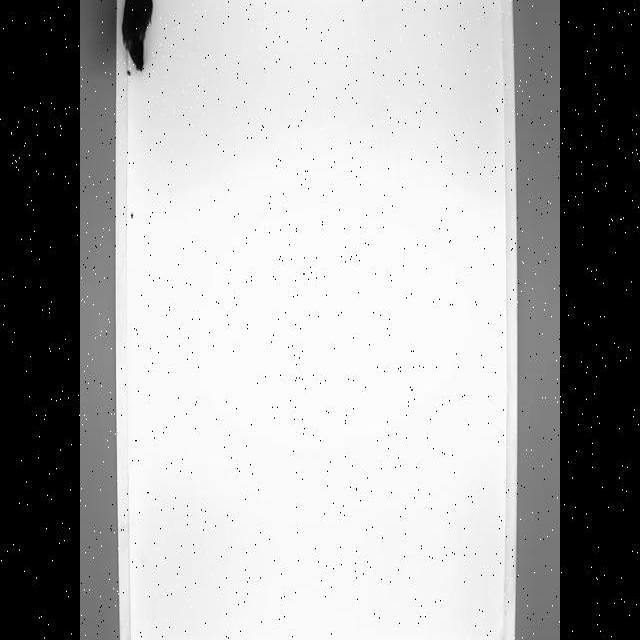rat: (120, 1, 155, 72)
